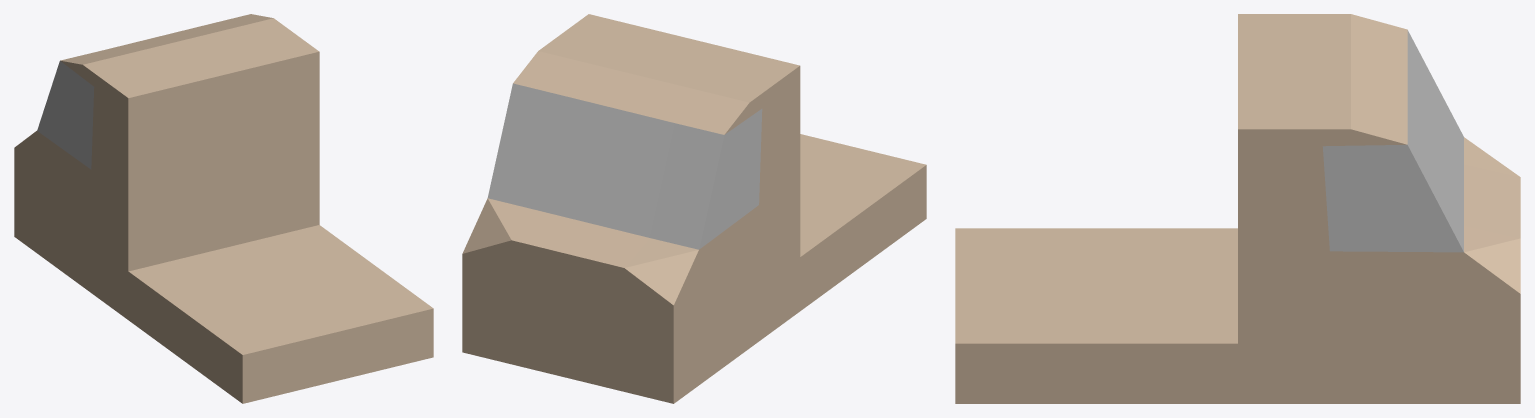
Rendered from truck1.obj.
3 views of the same model, side by side, from view 1: azimuth 30°, elevation 25°; view 2: azimuth 150°, elevation 25°; view 3: azimuth 270°, elevation 25° (orthographic). The views are drawn at different scales.
Parts seen in each view (by area): view 1: Cube1_default, Cube1_Cube1_auv; view 2: Cube1_default, Cube1_Cube1_auv; view 3: Cube1_default, Cube1_Cube1_auv.
Boxes of the visible parts, x1=… form: Cube1_default: x1=14, y1=14, x2=433, y2=403; Cube1_Cube1_auv: x1=37, y1=61, x2=94, y2=169; Cube1_default: x1=462, y1=14, x2=926, y2=403; Cube1_Cube1_auv: x1=487, y1=83, x2=762, y2=249; Cube1_default: x1=955, y1=14, x2=1520, y2=403; Cube1_Cube1_auv: x1=1322, y1=30, x2=1463, y2=252.
Size of the model in its own units: 2 by 2.22 by 4.14.
